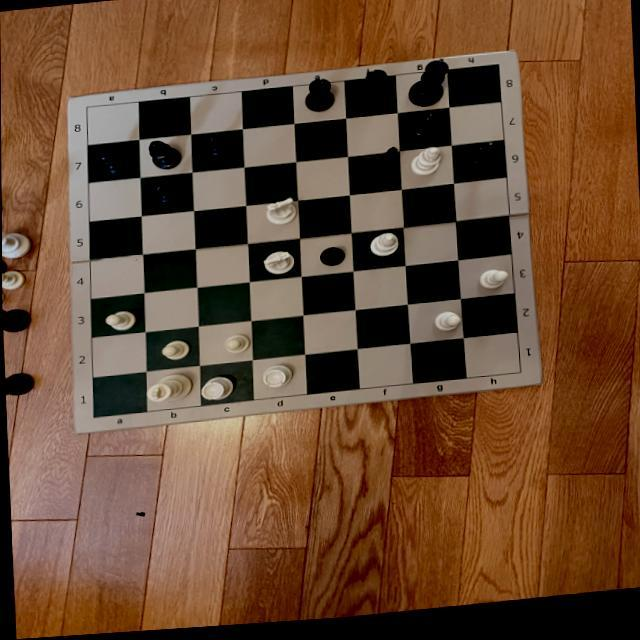chess-table-corners: (507, 373, 530, 384), (489, 66, 506, 78), (85, 414, 101, 424), (82, 105, 95, 114)
